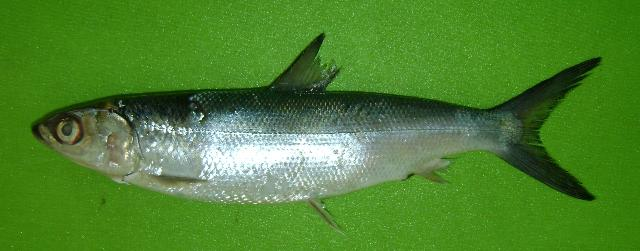Mulut: (15, 102, 67, 164)
Sirip Anal: (398, 151, 469, 197)
Sirip Dada: (129, 162, 221, 204)
Sirip Ekor: (488, 47, 616, 211)
Sirip Perut: (294, 186, 362, 246)
Sirip Punggung: (258, 22, 346, 100)
